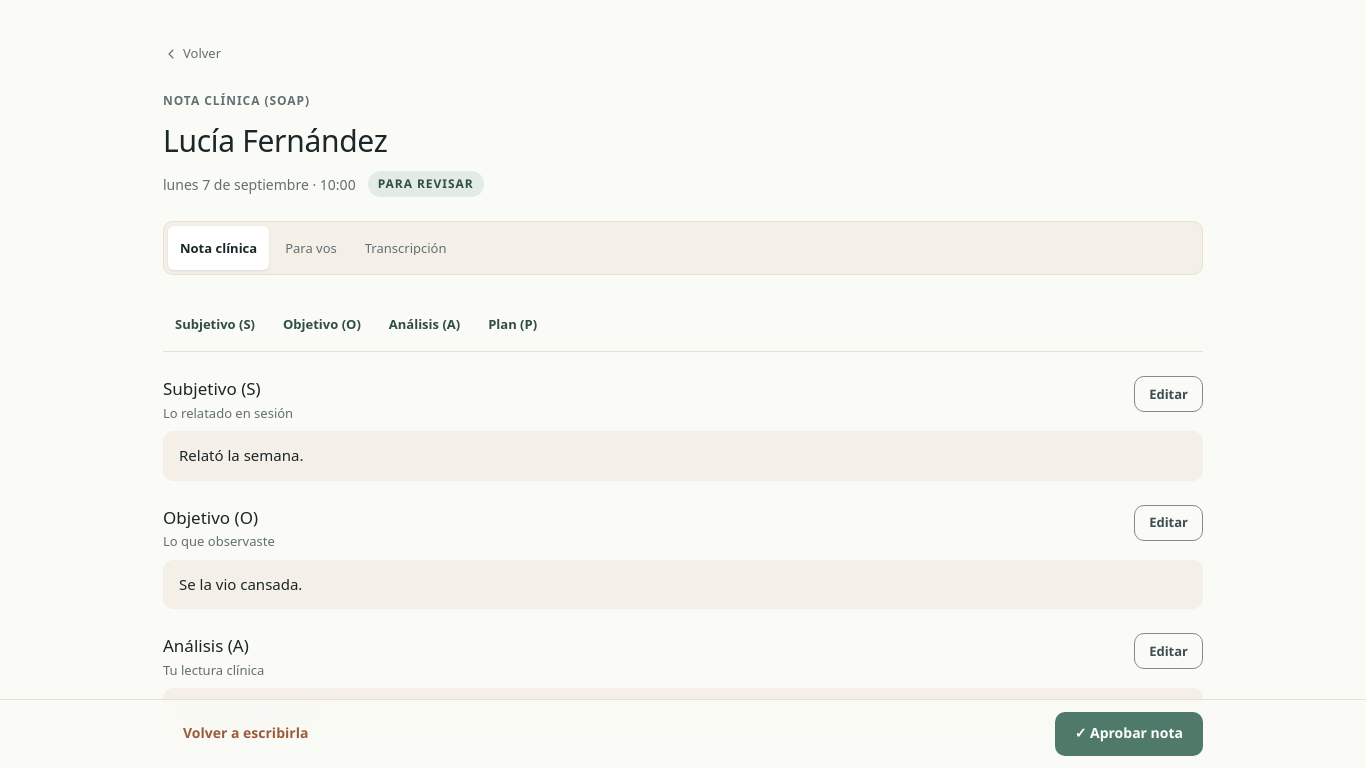
Scenario: Volver con correcciones sin aprobar › con correcciones, Volver NO vuelve: pregunta
The width and height of the screenshot is (1366, 768).
Check: the heading "Lucía Fernández" is shown, box [163,120,388,161]
Click the button "Editar" in the row of "Lo relatado en sesión": (1169, 394) [1134,376,1203,412]
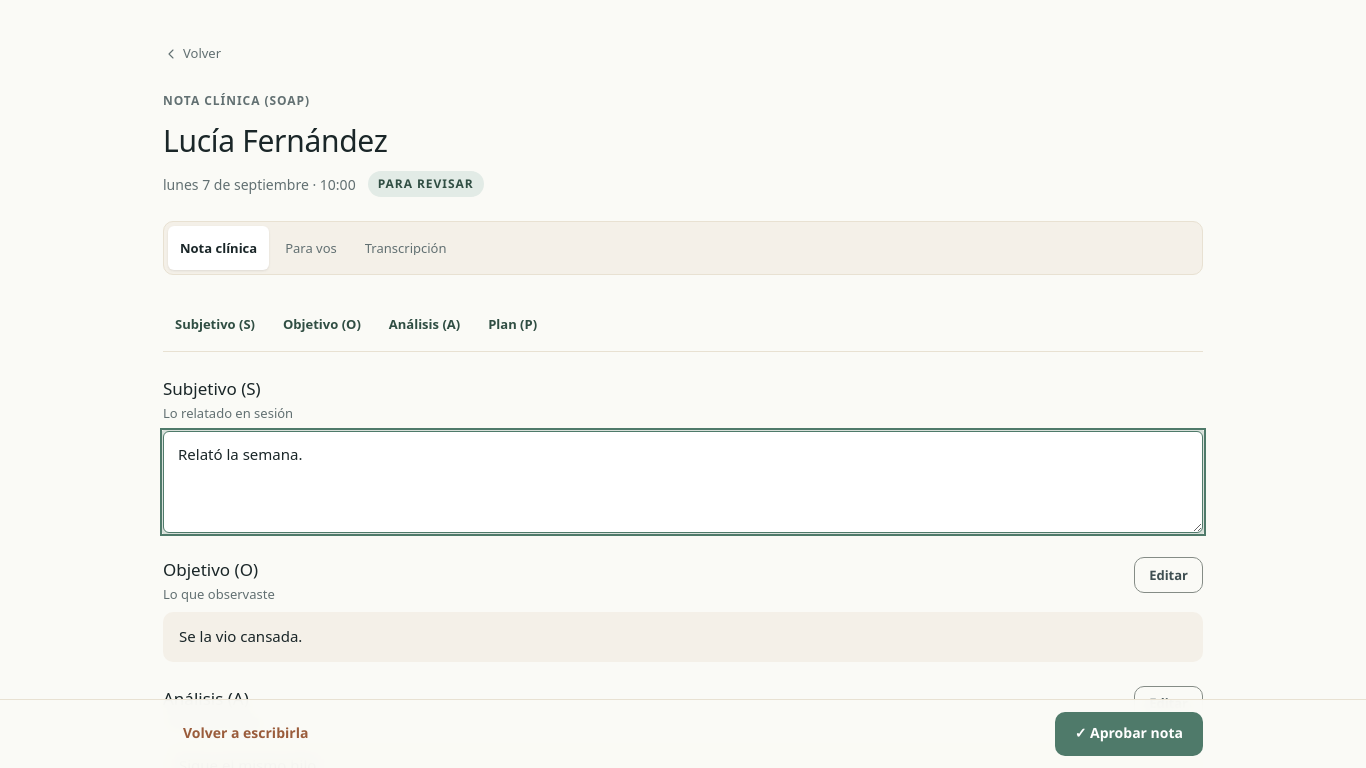
Replace the text in the text box with "Relató la semana, con más detalle del trabajo.": (683, 482) [164,432,1202,532]
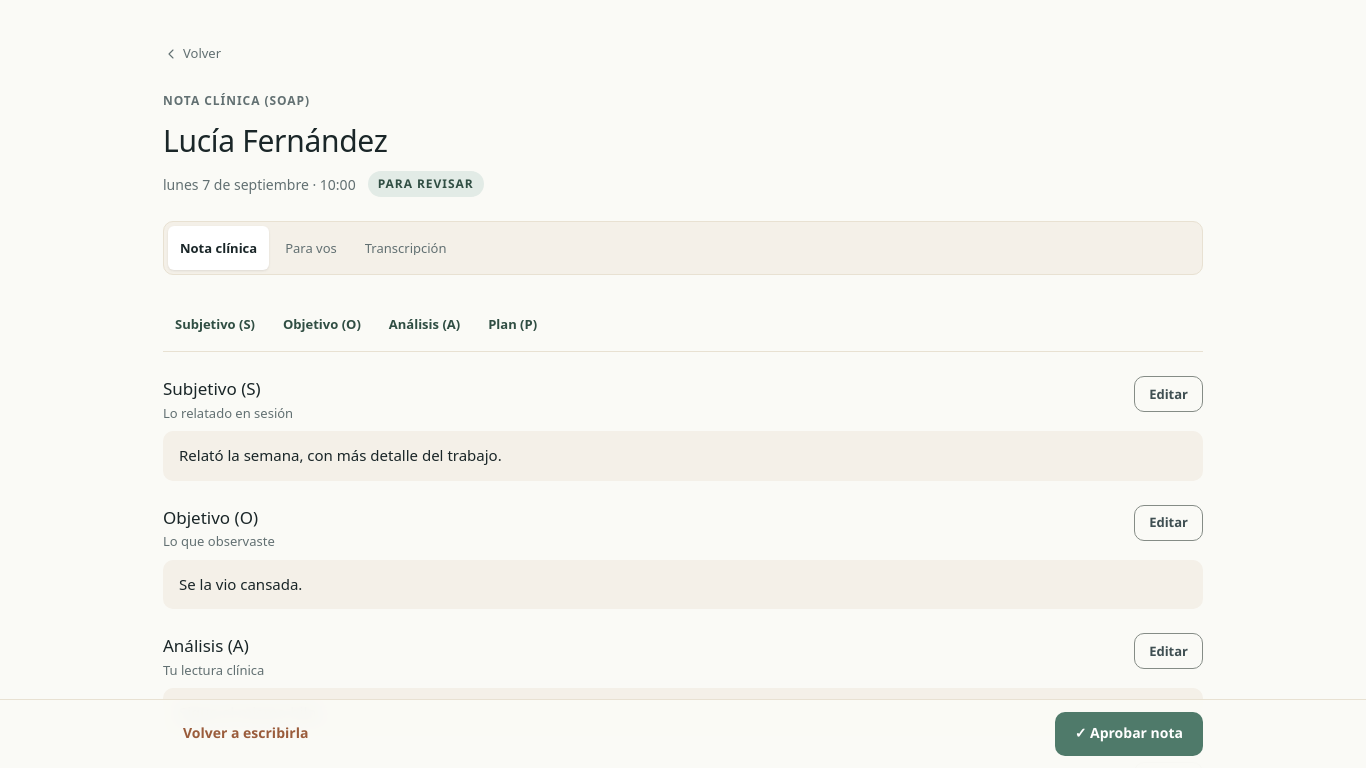
Click the button "Volver": (192, 54) [163,32,221,76]
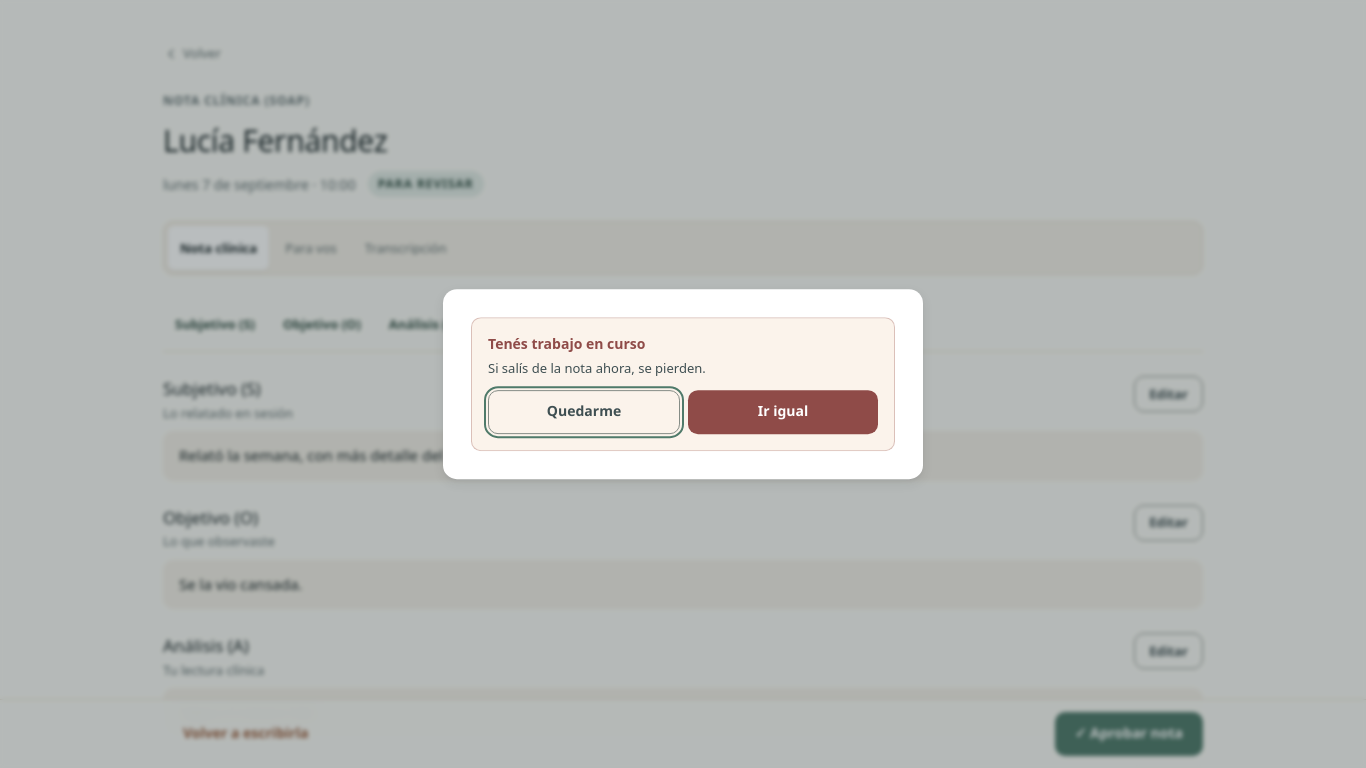
Check: the dialog is shown, box [471,317,895,451]
Check: the text "Tenés trabajo en curso" is shown, box [488,334,646,353]
